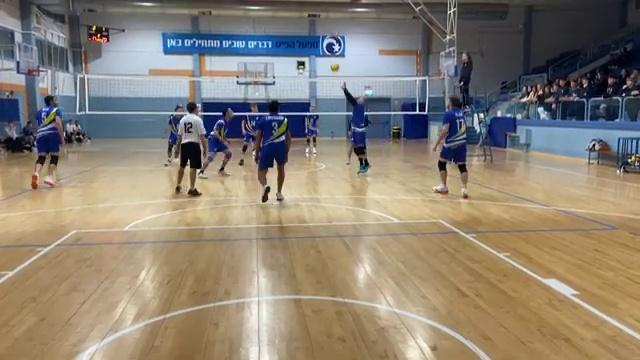ball: (329, 64, 341, 72)
